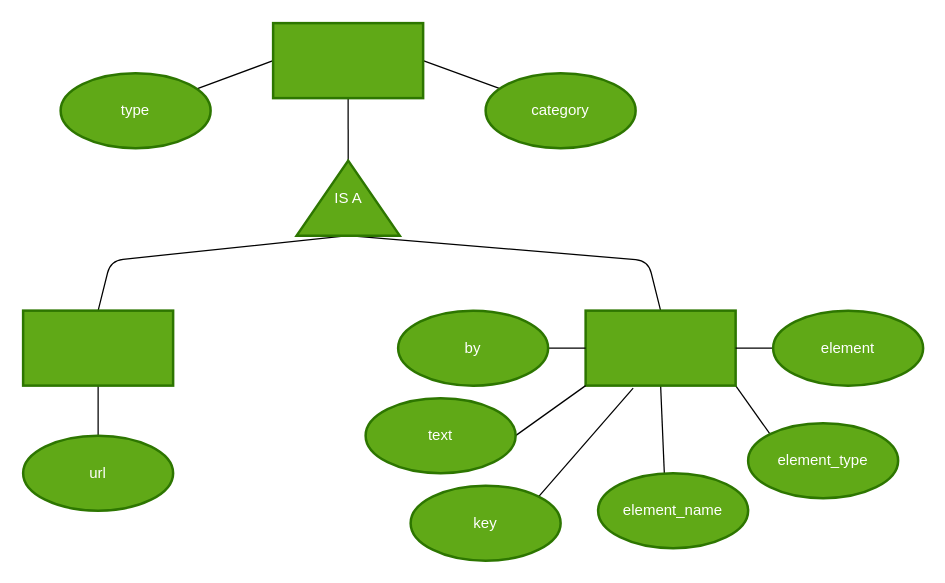
The diagram is 945 pixels wide and 583 high, and some of its shapes have lost their labels. Each missing label, with the centre of its shape:
ACTION: the point at 347,60
ELEMENT_ACTION: the point at 660,347
URL_ACTION: the point at 97,347
